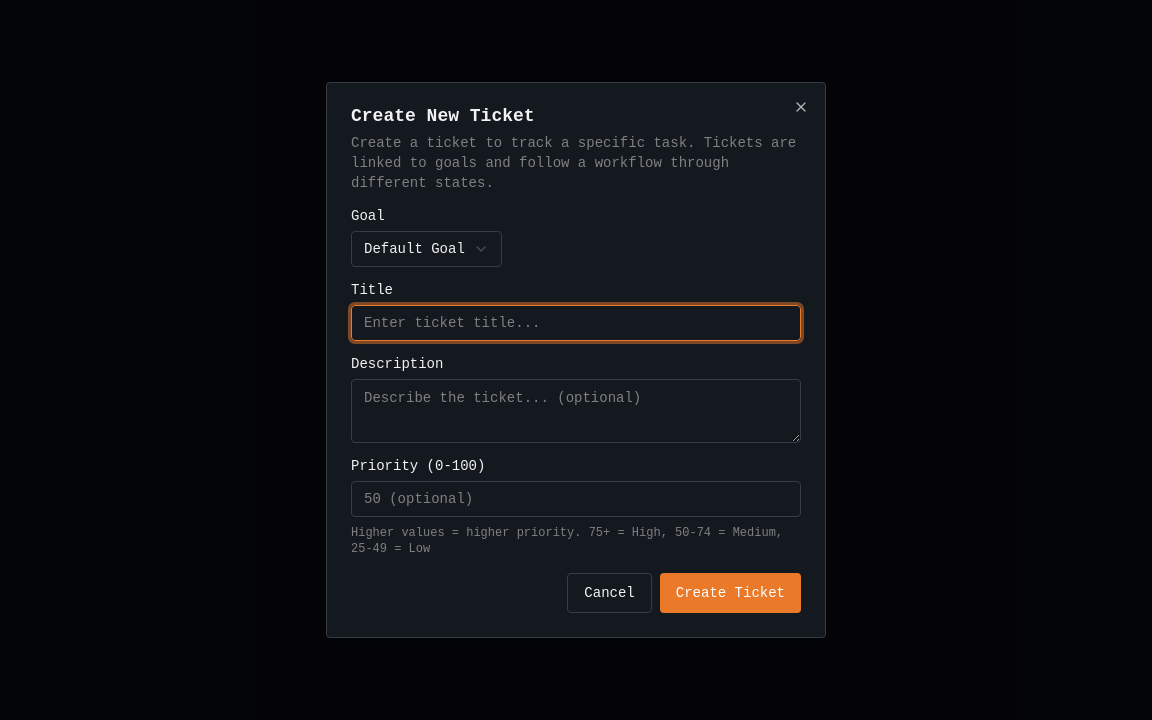
CreateTicketDialog › shows validation error when submitting without a title
Clear any auto-filled fields and submit
Click the button "Create Ticket" at (730, 593), box [660, 573, 801, 613]
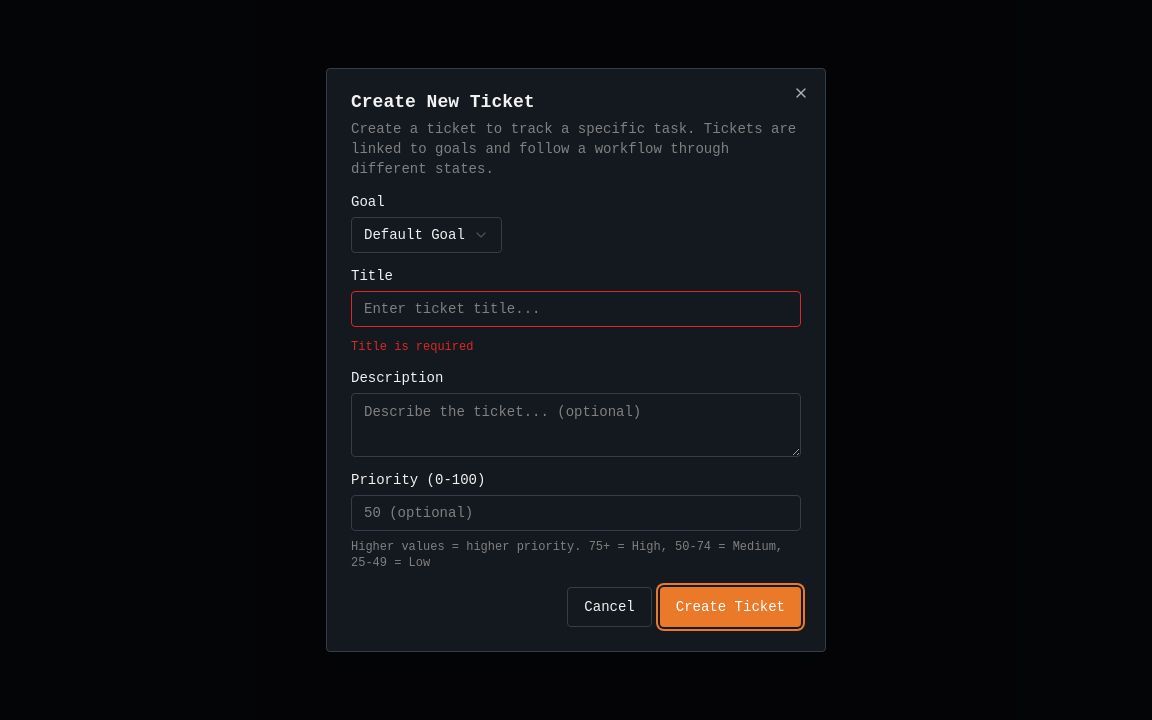
Now the text "Title is required" is shown, box [351, 340, 473, 354]
